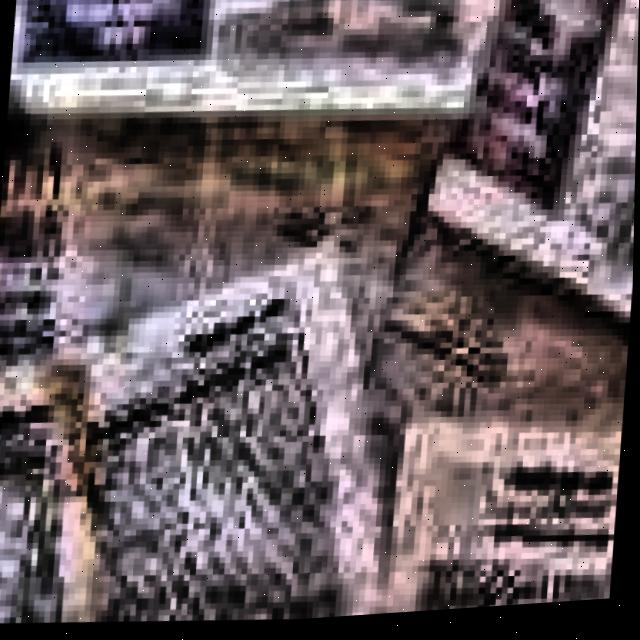paper: (0, 255, 339, 624), (421, 0, 639, 336), (7, 0, 466, 132), (393, 427, 624, 619)
